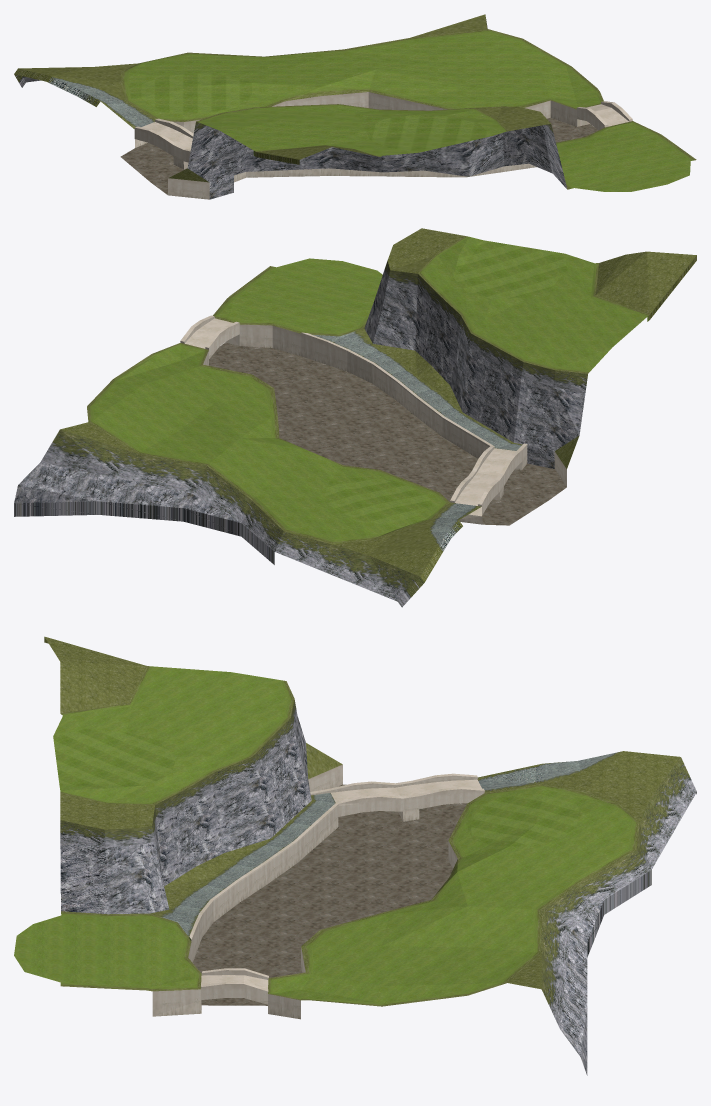
File: hc_track02_sfs.obj
3 views of the same model, one above another, from view 1: azimuth 30°, elevation 25°; view 2: azimuth 150°, elevation 25°; view 3: azimuth 270°, elevation 25° (orthographic). The views are drawn at different scales.
Parts seen in each view (by area): view 1: hc_track02_SFS; view 2: hc_track02_SFS; view 3: hc_track02_SFS.
Boxes of the visible parts, x1,y1,x2,y2 form: hc_track02_SFS: (14, 14, 696, 199); hc_track02_SFS: (14, 228, 696, 607); hc_track02_SFS: (14, 636, 696, 1075).
Size of the model in its own units: 107 by 43.18 by 125.
12 materials, 12 textured.
